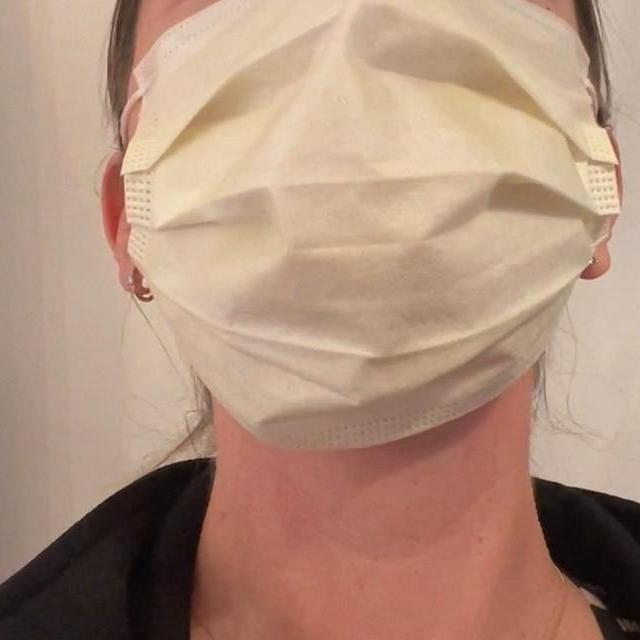Mask: (84, 0, 609, 448)
Person: (0, 0, 640, 640)
